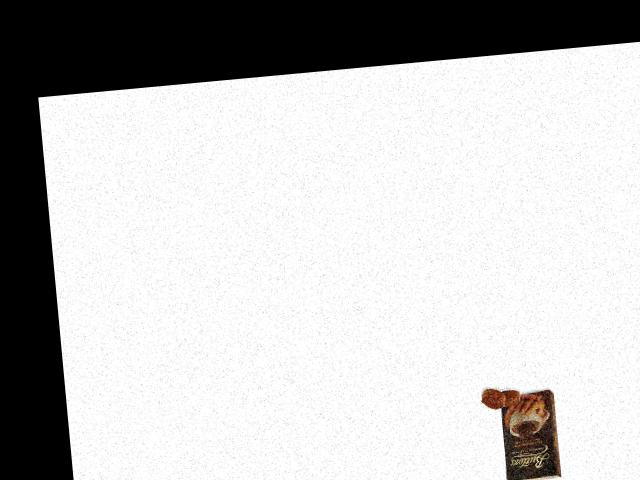chocolate: (491, 386, 565, 480)
